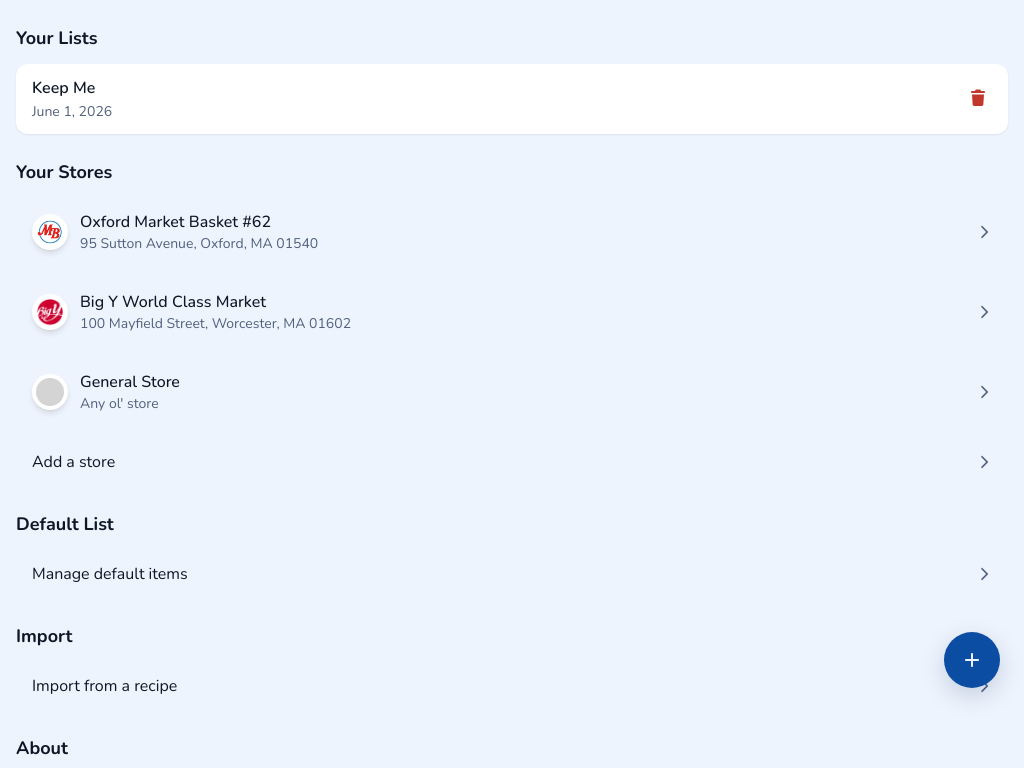
SettingsRoute › cancelling the confirm dialog keeps the list
Expected: the text "Keep Me" is shown, left=32, top=76, right=95, bottom=100
Click the button named "Delete list: Keep Me": (978, 99) left=964, top=83, right=992, bottom=115
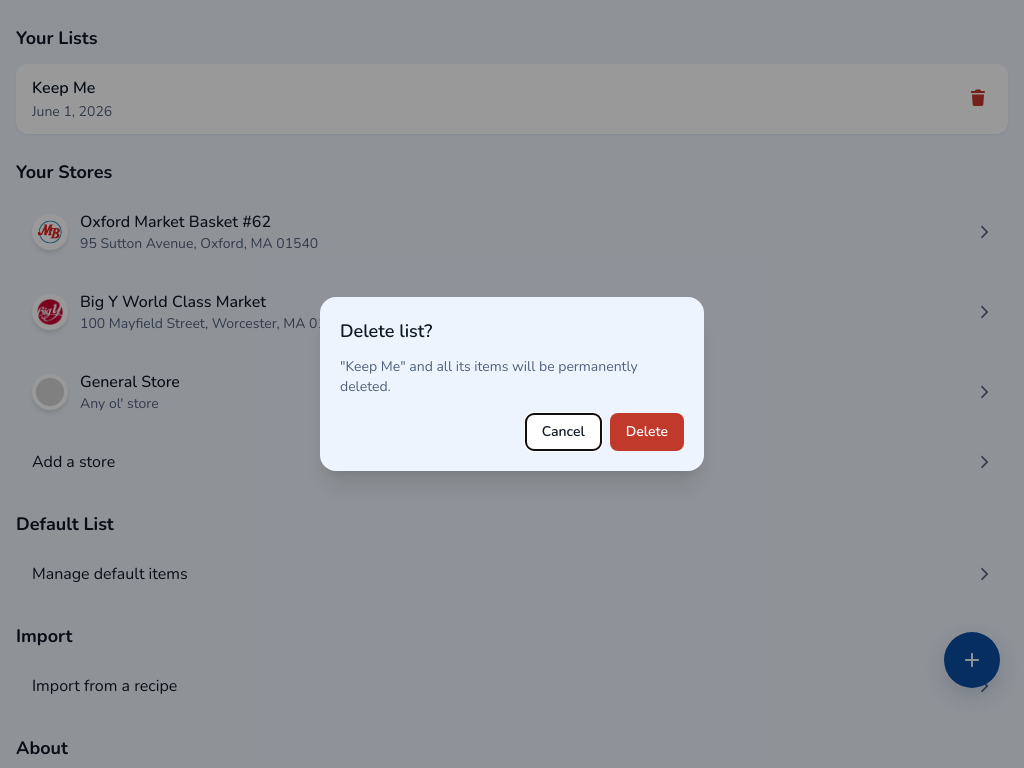
Click the button "Cancel": (563, 432) left=525, top=413, right=602, bottom=451
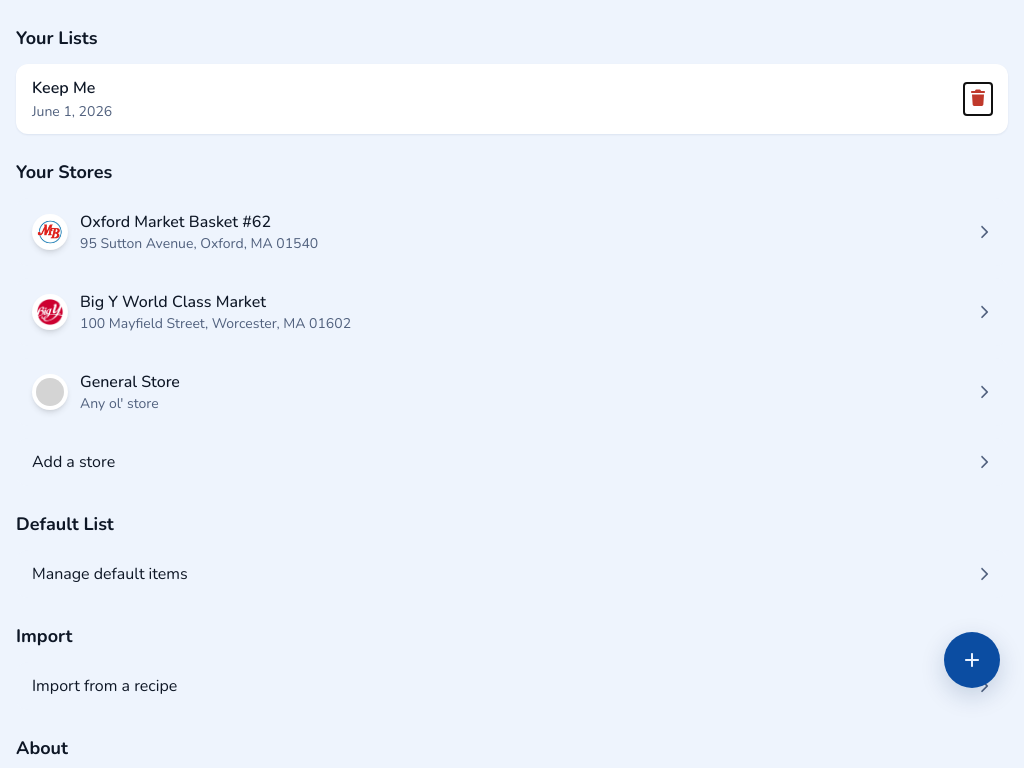
Expected: the text "Keep Me" is shown, left=32, top=76, right=95, bottom=100
Expected: the dialog is gone
